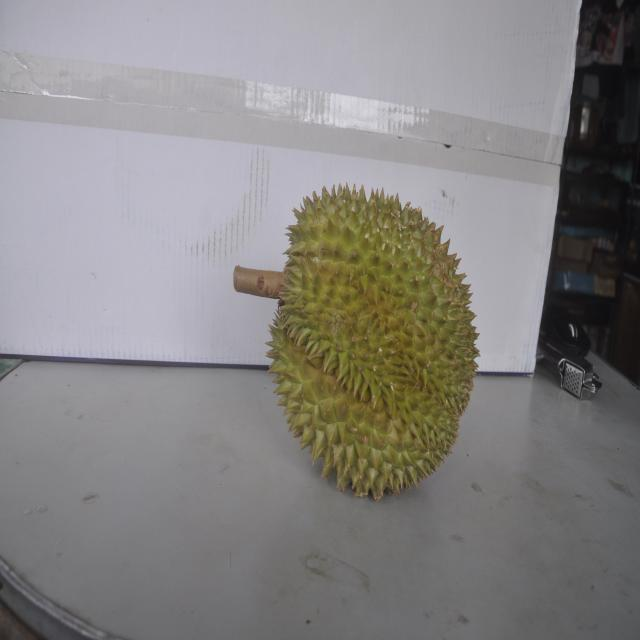mature: (261, 180, 475, 499)
